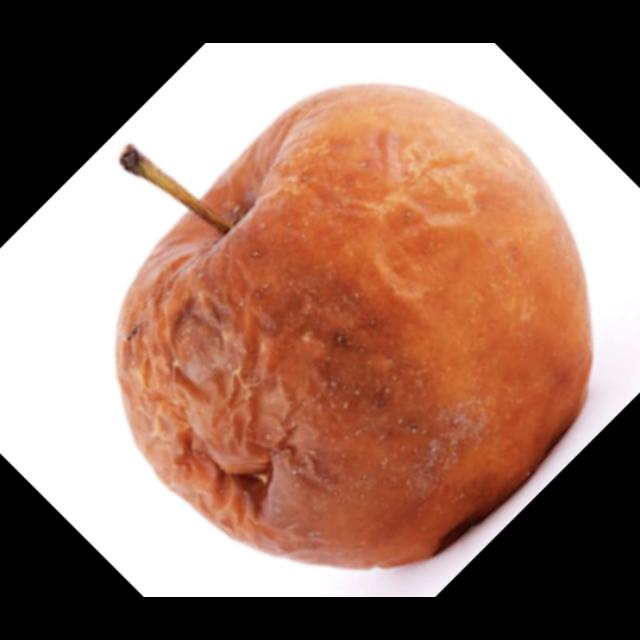Apel Tidak Segar: (121, 84, 576, 572), (580, 562, 584, 566)
